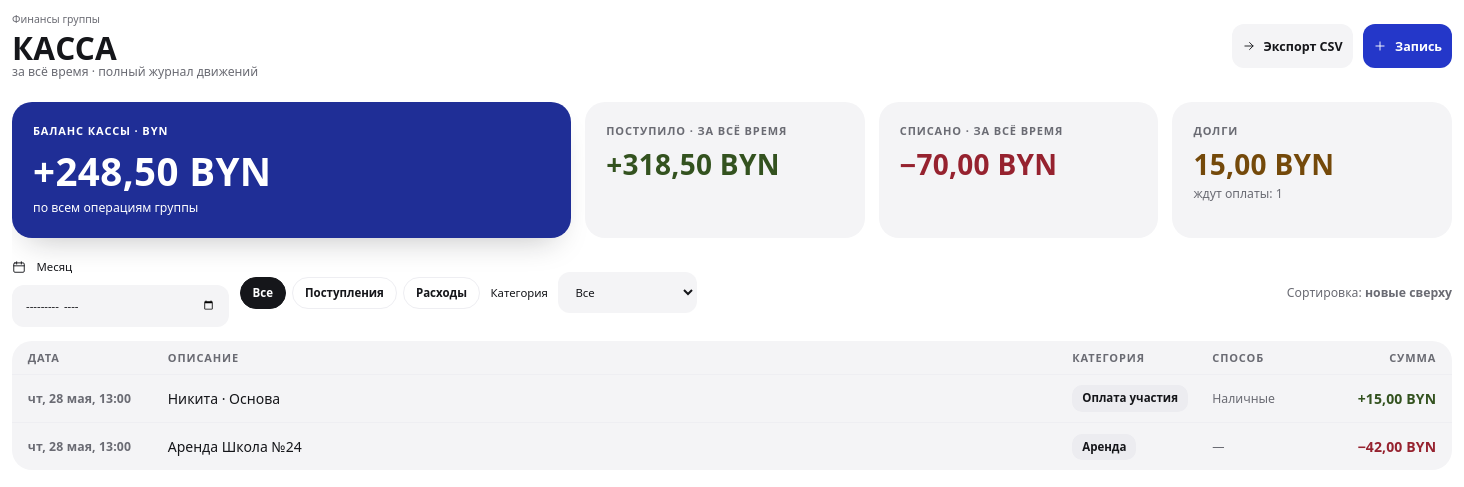
Test: desktop cashbox v3 › scopes income and expense tiles to the selected month and keeps the balance all-time
Type "2026-05" into the field labelled "Месяц". click: point(121, 306)
box: [12, 285, 229, 327]
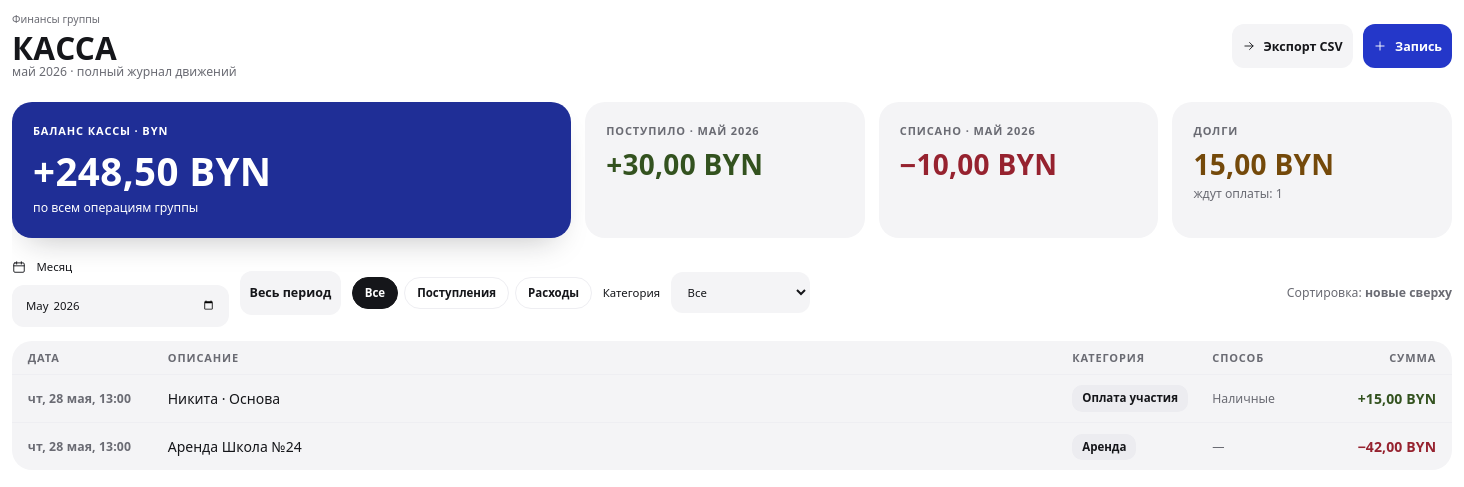
Check: the text "Поступило · май 2026" is shown, box [606, 123, 760, 138]
Check: the text "Списано · май 2026" is shown, box [900, 123, 1036, 138]
